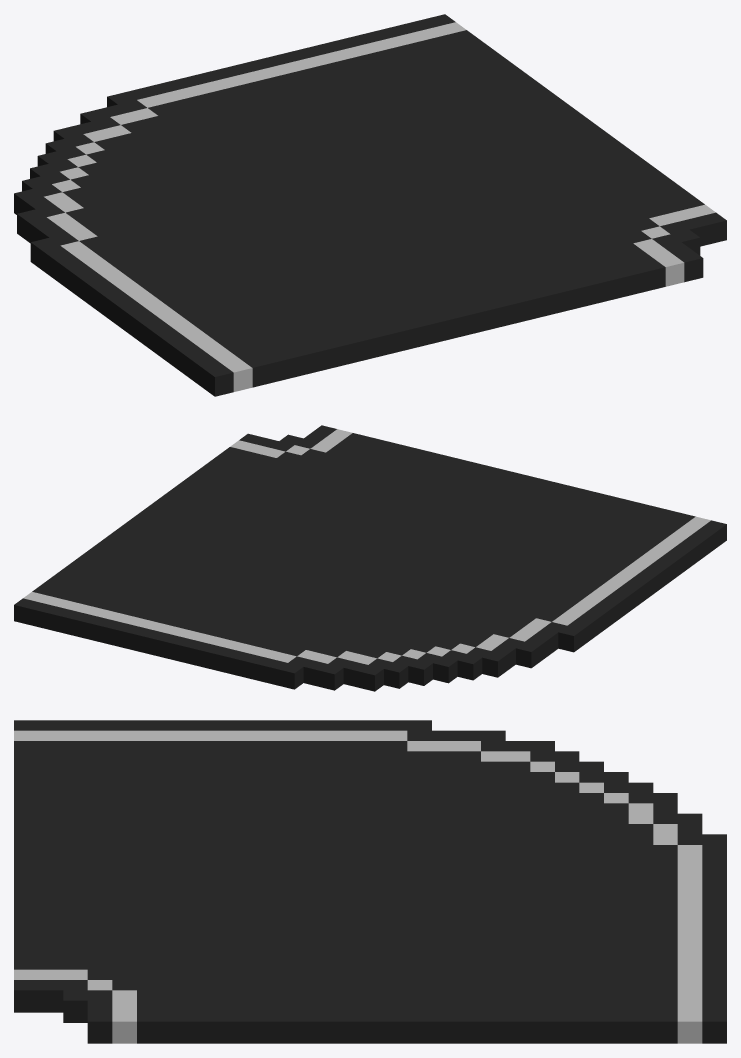
The model's file is road-rounded-curve-4.gltf.
3 views of the same model, one above another, from view 1: azimuth 30°, elevation 25°; view 2: azimuth 150°, elevation 25°; view 3: azimuth 270°, elevation 25° (orthographic). The views are drawn at different scales.
Parts seen in each view (by area): view 1: road-rounded-curve-4_model; view 2: road-rounded-curve-4_model; view 3: road-rounded-curve-4_model.
Part boxes in pixels (box(x1,y1,x2,y2)): road-rounded-curve-4_model: box(14, 14, 726, 396); road-rounded-curve-4_model: box(14, 425, 726, 691); road-rounded-curve-4_model: box(14, 720, 726, 1043).
Bounding box in the file's own units: 2.9 × 0.1 × 2.9.
Materials: 1 (1 with a texture image).
